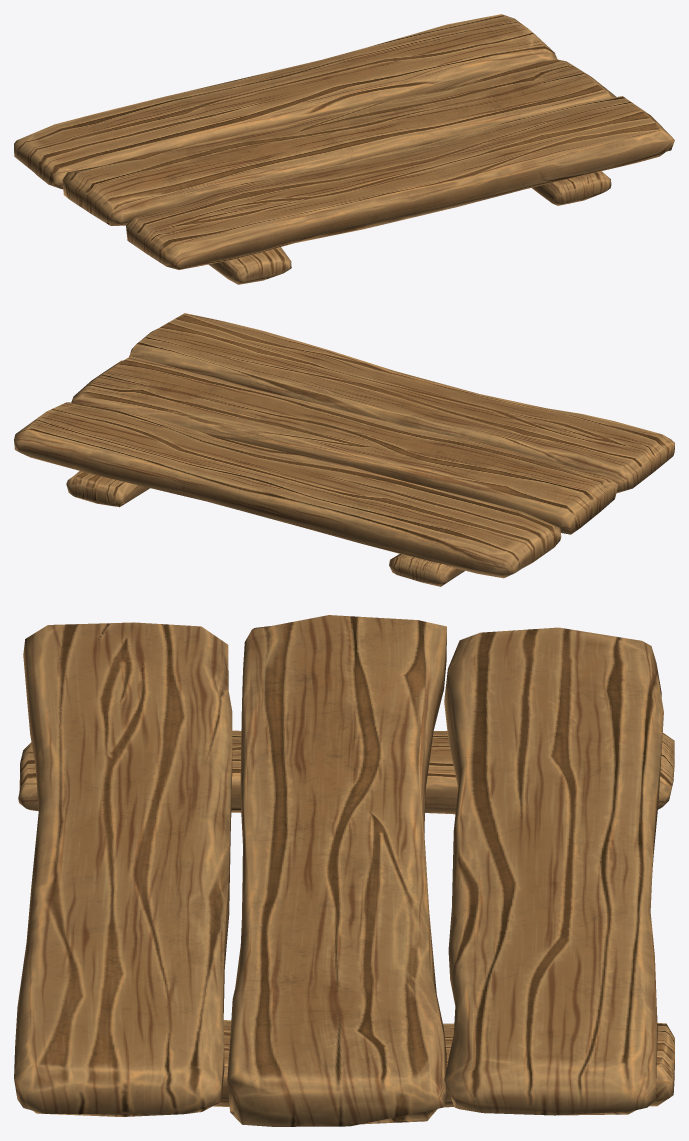
The model's file is SM_Planks_Platform.fbx.
The picture shows the model from 3 angles, top to bottom: view 1: azimuth 30°, elevation 25°; view 2: azimuth 150°, elevation 25°; view 3: azimuth 270°, elevation 25°; orthographic projection. The views are drawn at different scales.
Visible parts, largest first — view 1: SM_Plank_Platform; view 2: SM_Plank_Platform; view 3: SM_Plank_Platform.
Boxes of the visible parts, box(x1,y1,x2,y2) form: SM_Plank_Platform: box(14, 14, 674, 284); SM_Plank_Platform: box(14, 313, 674, 586); SM_Plank_Platform: box(14, 615, 674, 1126).
Bounding box in the file's own units: 600 × 64.37 × 361.
Materials: 1 (1 with a texture image).
